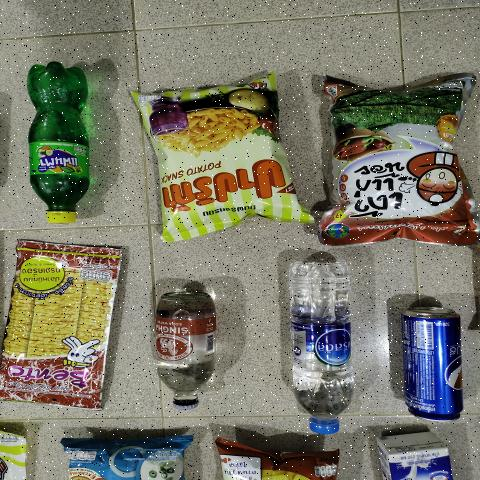bento_red: (0, 249, 132, 411)
crystal: (283, 258, 359, 435)
fanta_green: (25, 55, 91, 226)
paprika: (154, 72, 273, 232)
pepsi_blue: (408, 305, 465, 421)
singha_soda: (161, 291, 213, 411)
taokaenoi: (322, 85, 479, 243)
